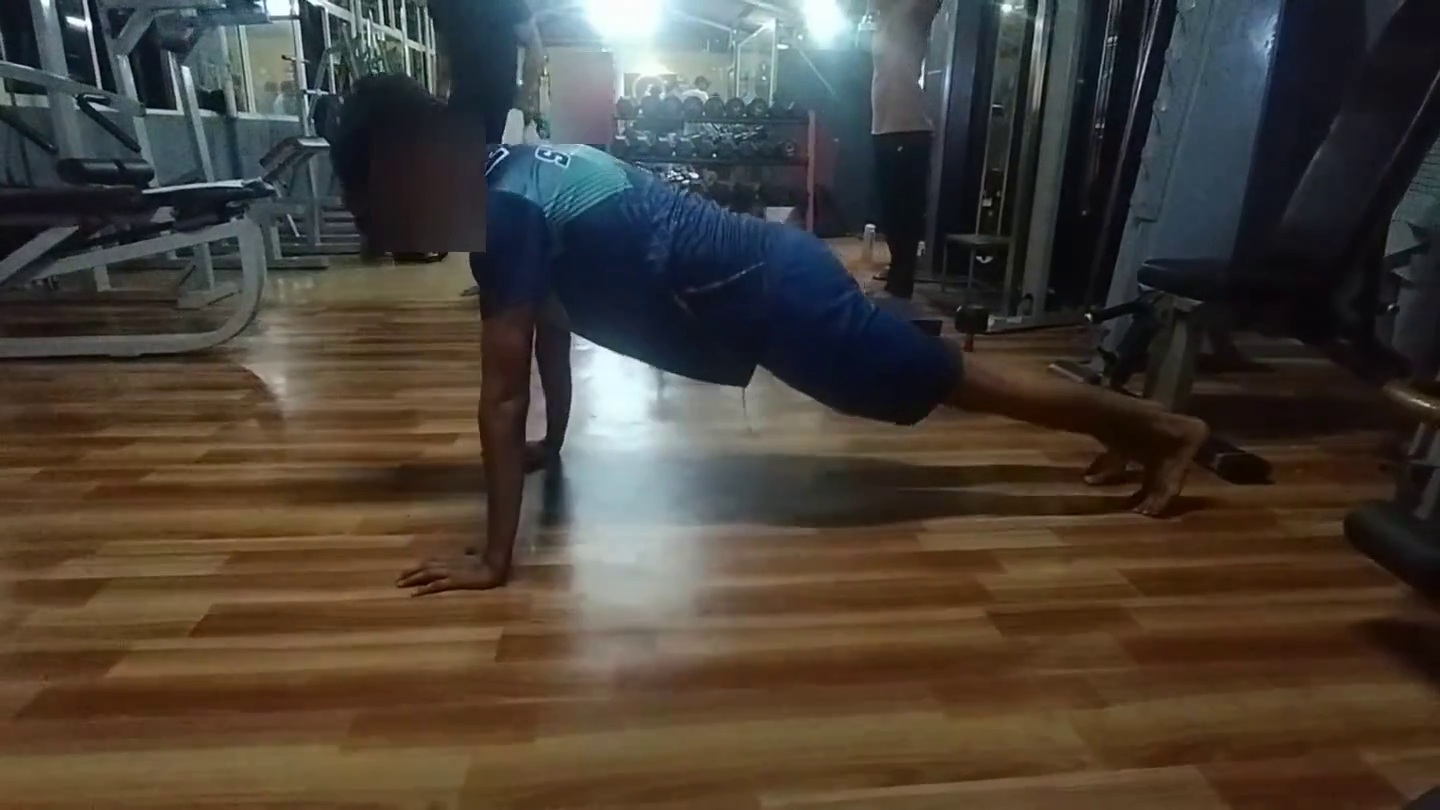push_up_incorrect: (324, 93, 1282, 645)
